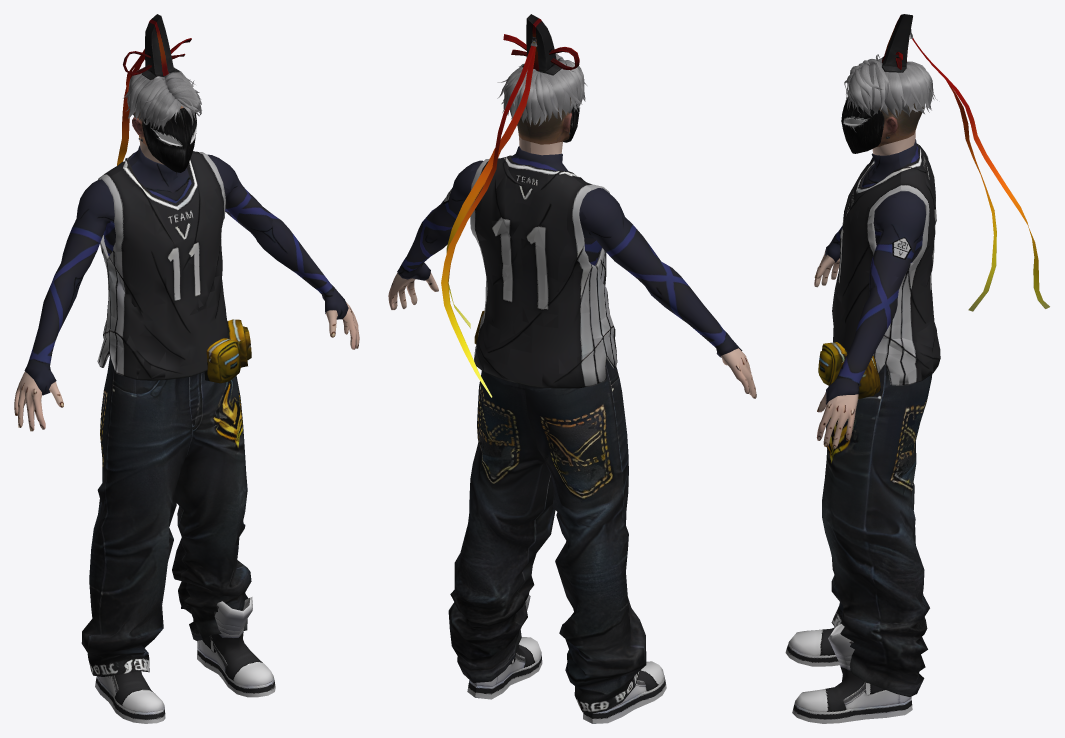
The model's file is male_fullbody_2.glb.
The picture shows the model from 3 angles, left to right: view 1: azimuth 30°, elevation 25°; view 2: azimuth 150°, elevation 25°; view 3: azimuth 270°, elevation 25°; orthographic projection. The views are drawn at different scales.
Visible parts, largest first — view 1: male_fullbody_2; view 2: male_fullbody_2; view 3: male_fullbody_2.
Boxes of the visible parts, bbox=[...] form: male_fullbody_2: bbox=[14, 14, 359, 723]; male_fullbody_2: bbox=[388, 14, 756, 723]; male_fullbody_2: bbox=[785, 14, 1049, 723].
Size of the model in its own units: 0.5381 by 0.9901 by 0.3516.
Materials: 7 (7 with a texture image).
